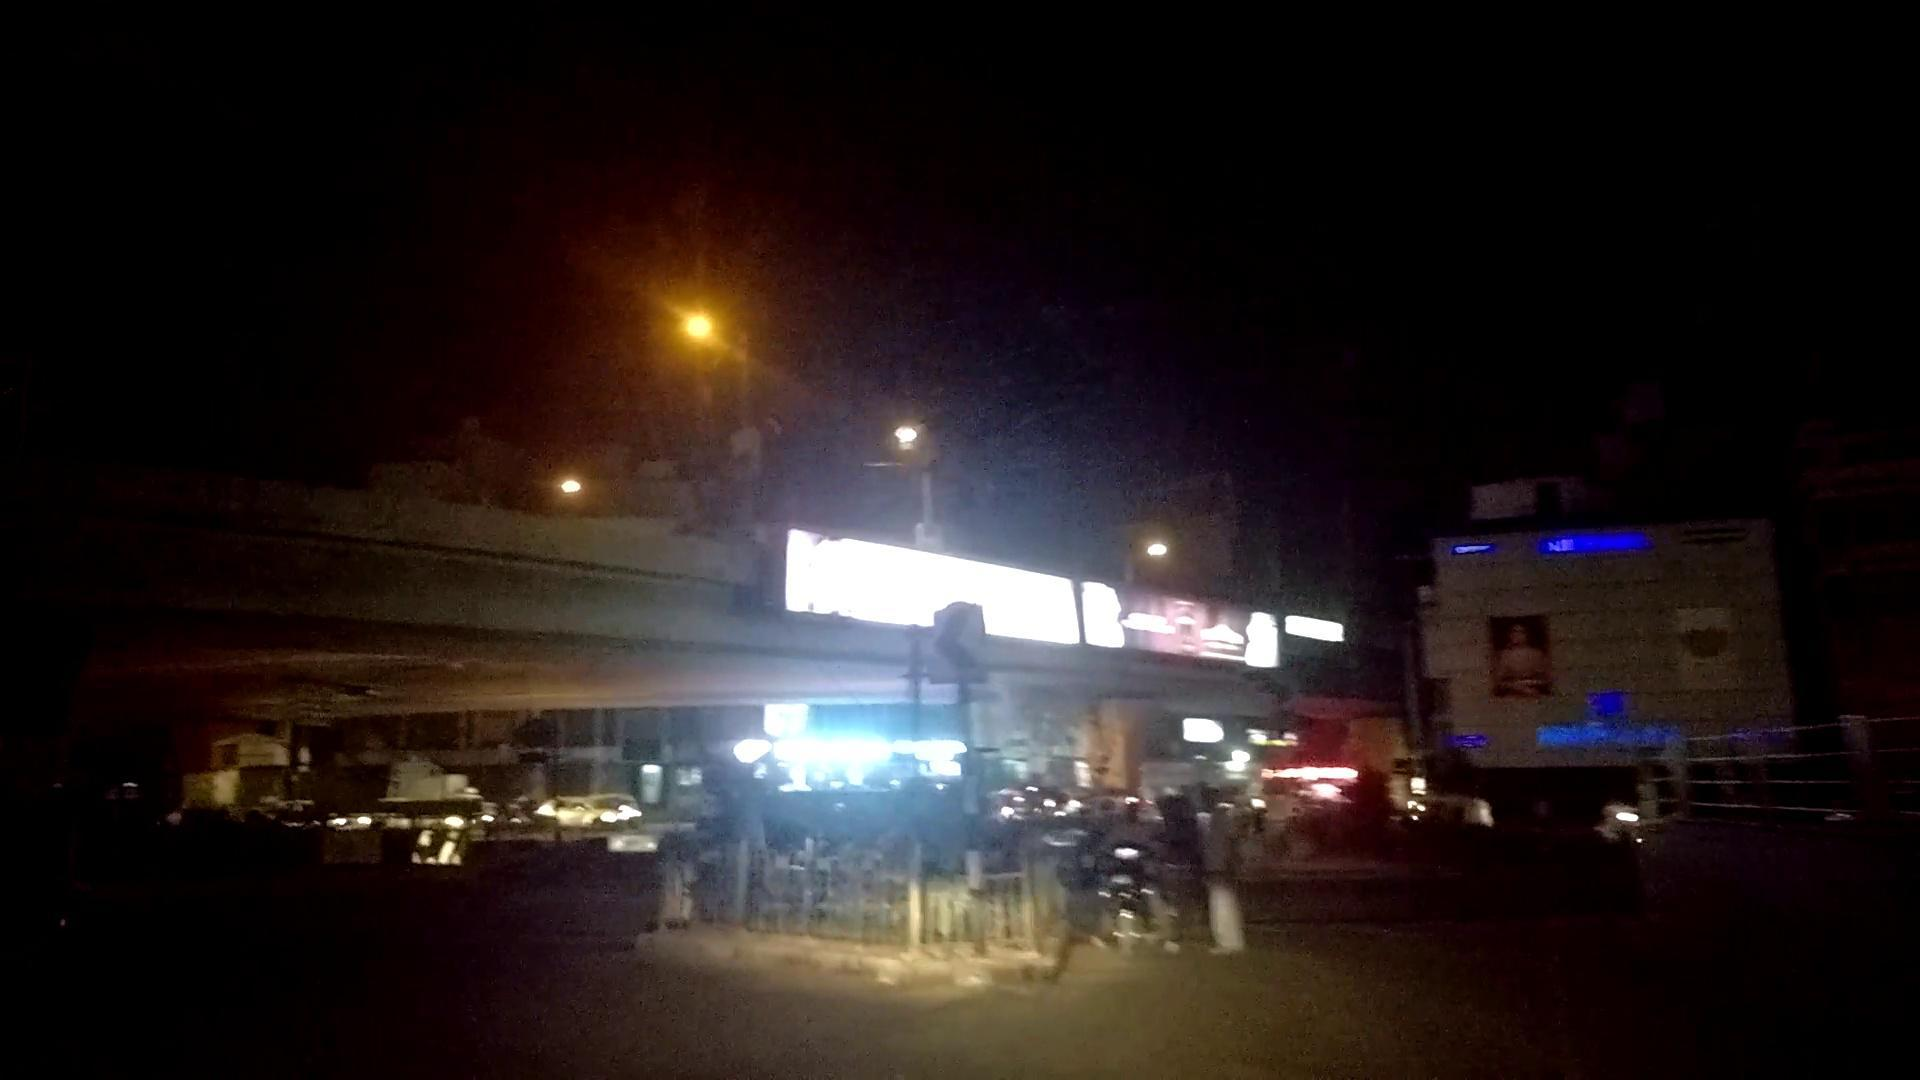on: (0, 51, 1920, 1080)
